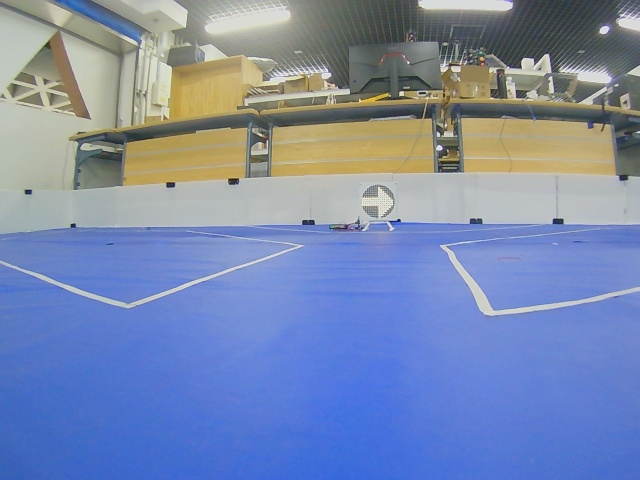right_yellow: (362, 184, 395, 219)
